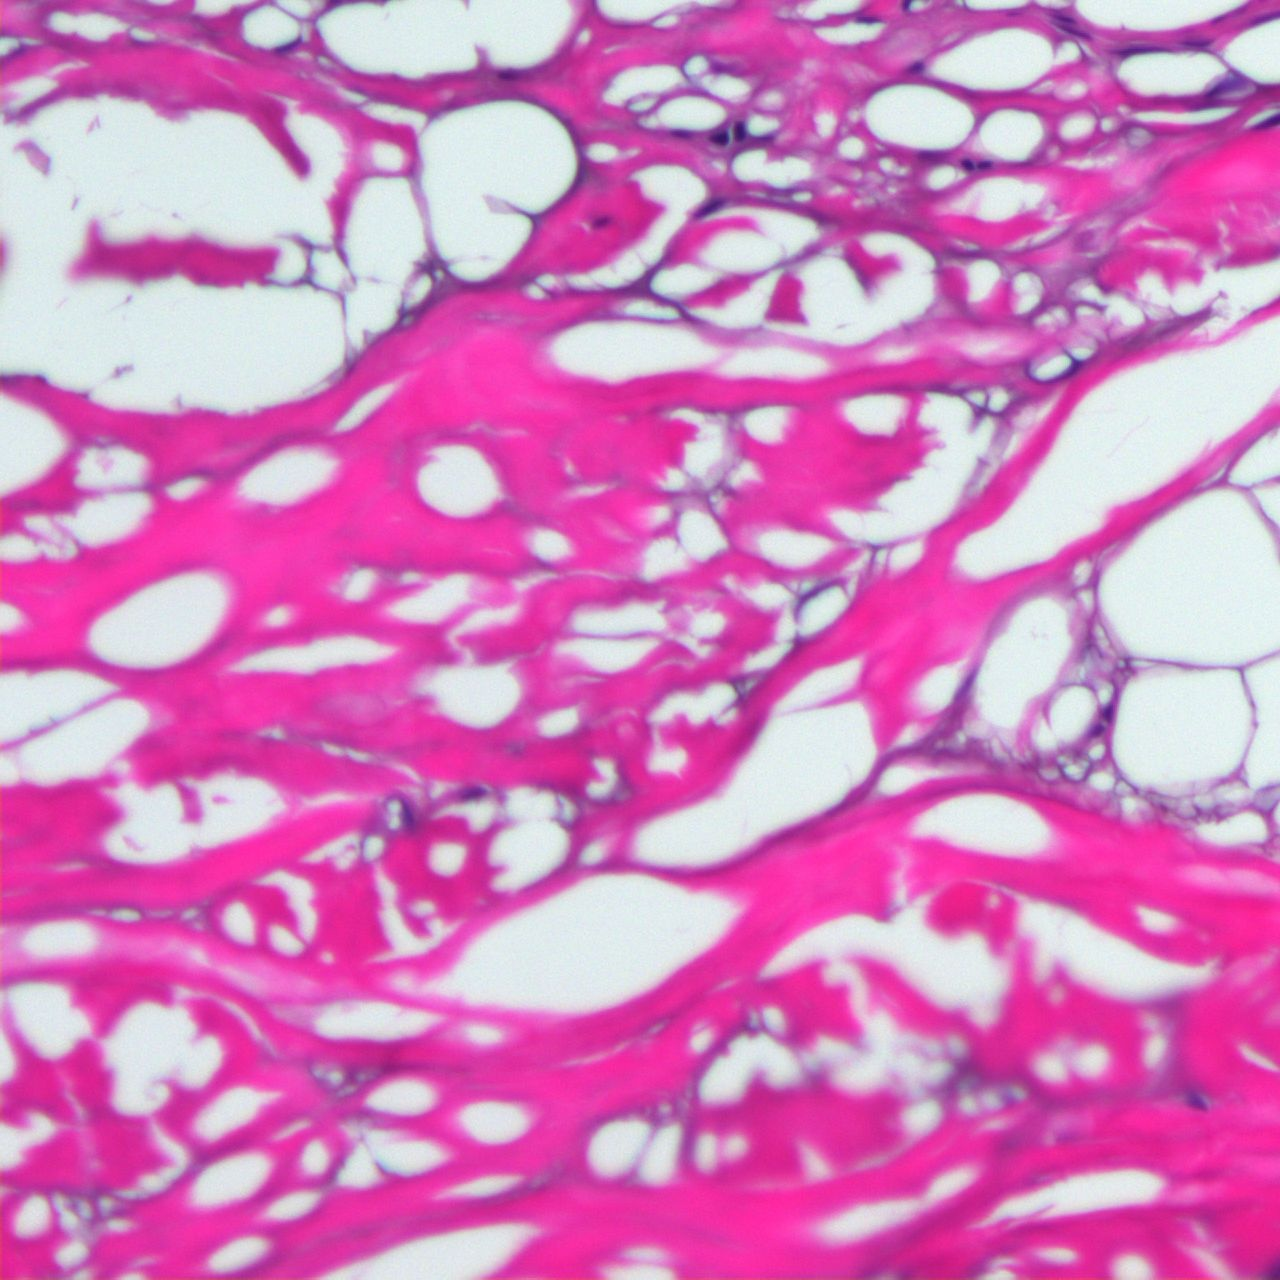nucleus-HE: (1118, 43, 1149, 57), (906, 57, 926, 76), (710, 130, 730, 147), (734, 121, 745, 141), (961, 158, 978, 171), (978, 159, 992, 169)
